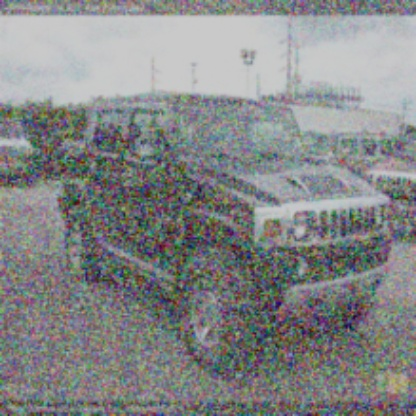Vehicle: (61, 94, 395, 376)
